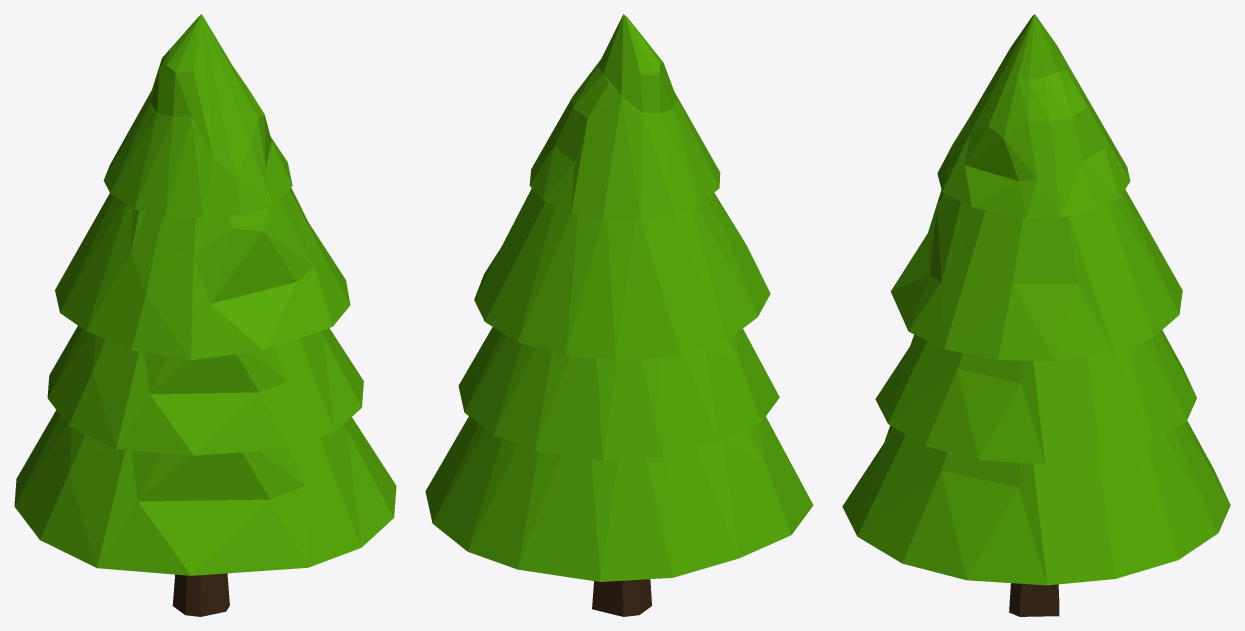
Rendered from Smreka02.glb.
The picture shows the model from 3 angles, left to right: view 1: azimuth 30°, elevation 25°; view 2: azimuth 150°, elevation 25°; view 3: azimuth 270°, elevation 25°; orthographic projection.
Parts seen in each view (by area): view 1: Pine tree; view 2: Pine tree; view 3: Pine tree.
Part boxes in pixels (x1,y1,x2,y2): Pine tree: [14, 14, 396, 616]; Pine tree: [425, 14, 813, 616]; Pine tree: [842, 14, 1230, 616].
Bounding box in the file's own units: 0.5592 × 0.94 × 0.5583.
